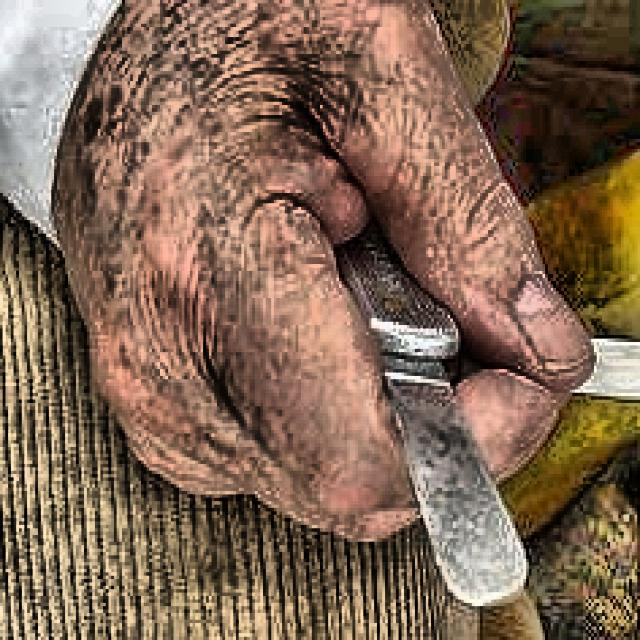knife: (343, 219, 528, 610)
